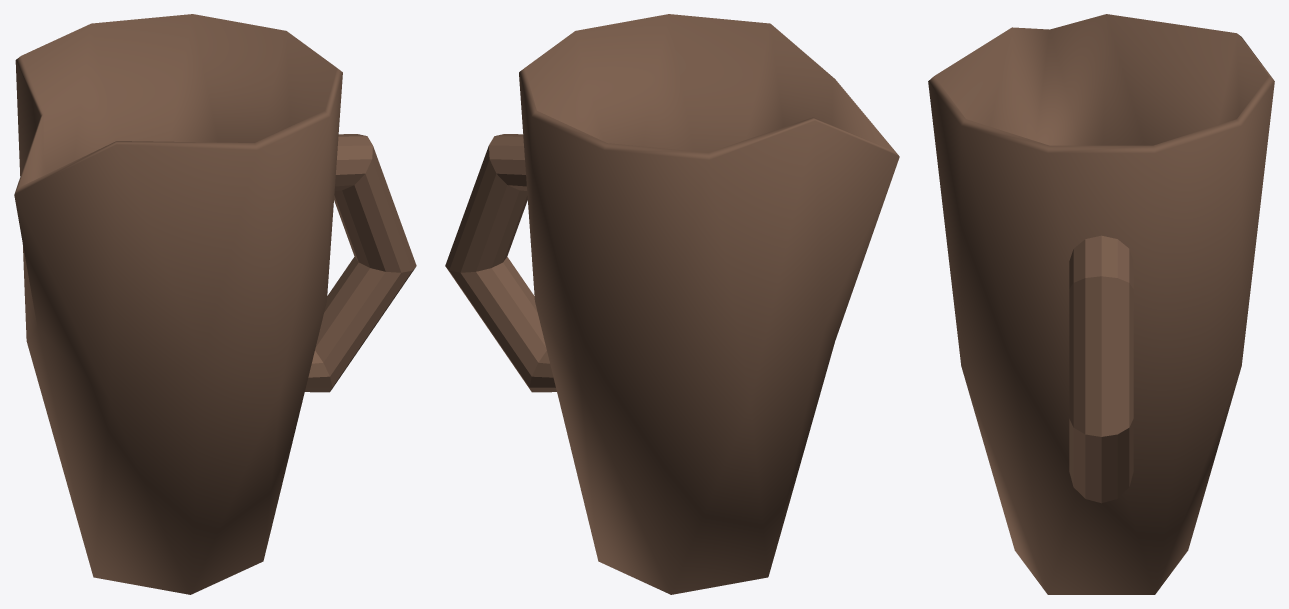
File: carafe-type.obj
3 views of the same model, side by side, from view 1: azimuth 30°, elevation 25°; view 2: azimuth 150°, elevation 25°; view 3: azimuth 270°, elevation 25° (orthographic). The views are drawn at different scales.
Visible parts, largest first — view 1: carafe-type; view 2: carafe-type; view 3: carafe-type.
Part boxes in pixels (bbox=[...]): carafe-type: bbox=[14, 14, 416, 594]; carafe-type: bbox=[445, 14, 899, 594]; carafe-type: bbox=[928, 14, 1274, 594].
Size of the model in its own units: 0.0828 by 0.0909 by 0.0571.
